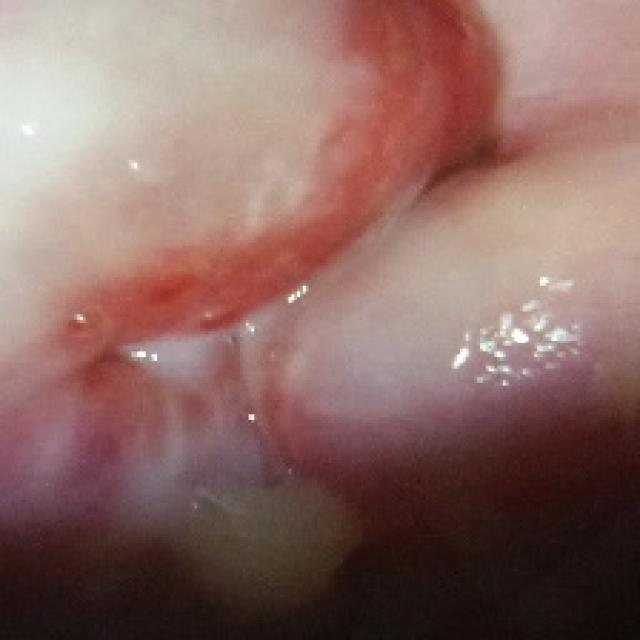type-2: (5, 3, 640, 560)
